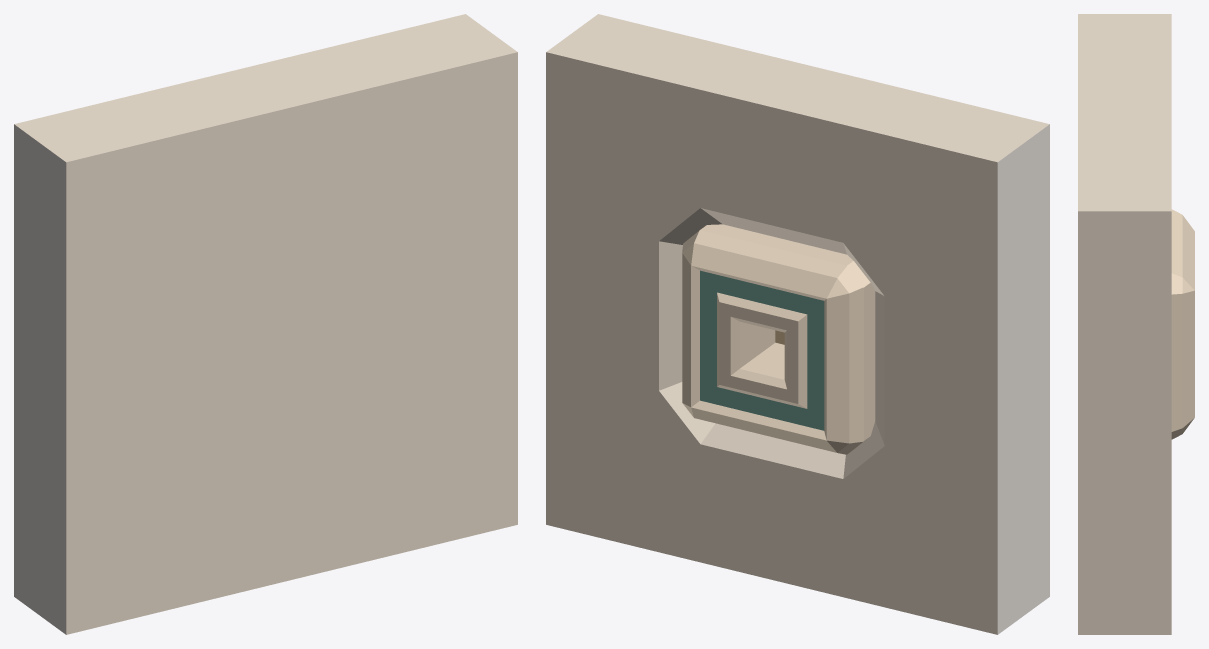
Rendered from Puzzle_Wall_Conduit_Keyhole_Unconnected.glb.
3 views of the same model, side by side, from view 1: azimuth 30°, elevation 25°; view 2: azimuth 150°, elevation 25°; view 3: azimuth 270°, elevation 25° (orthographic). The views are drawn at different scales.
Parts seen in each view (by area): view 1: Puzzle_Wall_Conduit_Keyhole_Unconnected; view 2: Puzzle_Wall_Conduit_Keyhole_Unconnected; view 3: Puzzle_Wall_Conduit_Keyhole_Unconnected.
Part boxes in pixels (bbox=[...]): Puzzle_Wall_Conduit_Keyhole_Unconnected: bbox=[14, 14, 517, 634]; Puzzle_Wall_Conduit_Keyhole_Unconnected: bbox=[546, 14, 1049, 634]; Puzzle_Wall_Conduit_Keyhole_Unconnected: bbox=[1078, 14, 1194, 634].
Bounding box in the file's own units: 1 × 1 × 0.25.
